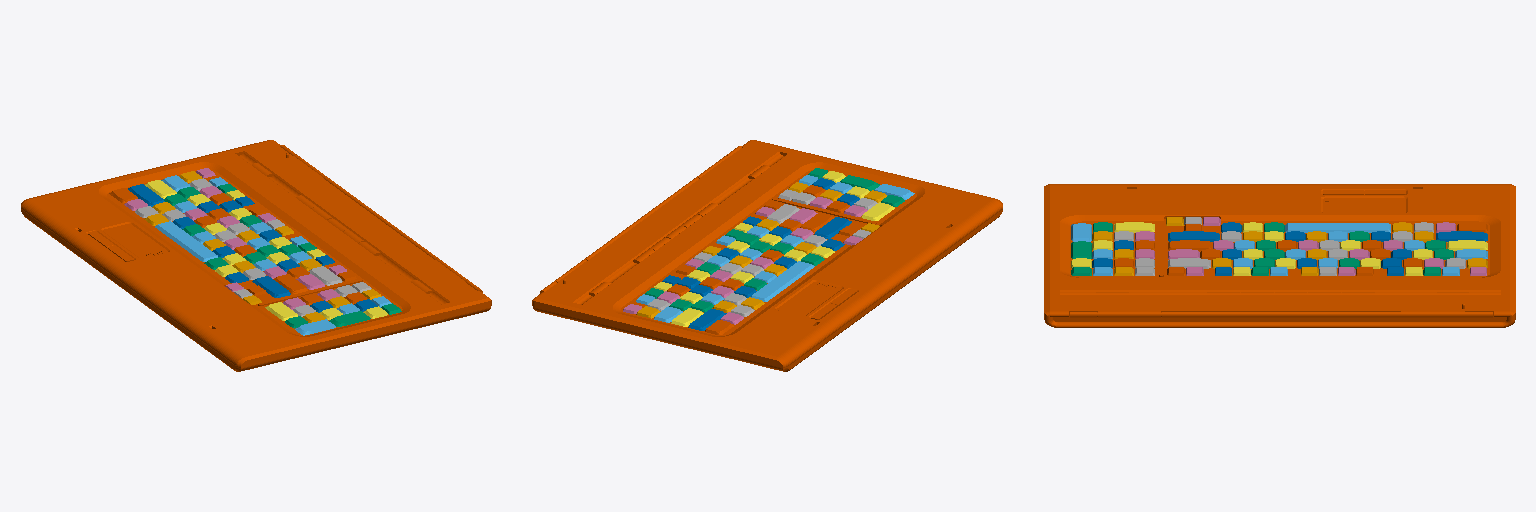
--- Facts derived from the render (not from the file) ---
Views: 3 orthographic renders of the robot side by side, from view 1: azimuth 30°, elevation 25°; view 2: azimuth 150°, elevation 25°; view 3: azimuth 270°, elevation 25°.
Model partnet_277e8f771b0aa88a6c71abf53b20bc9c with 103 links and 102 joints (101 prismatic, 1 fixed), rooted at base, posed all joints at 0.
Links seen in each view (by area): view 1: link_100, link_72; view 2: link_100, link_72; view 3: link_100, link_72.
Boxes of the visible links, x1,y1,x2,y2 form: link_100: (21, 140, 491, 371); link_72: (155, 221, 217, 261); link_100: (532, 140, 1002, 371); link_72: (751, 261, 814, 301); link_100: (1044, 184, 1515, 327); link_72: (1285, 223, 1390, 232).
Size in the robot's own frame: 1.15 by 1.71 by 0.0825 metres.
103 mesh visuals loaded from 103 distinct referenced files (103 OBJ).

The robot description file, URDF, robot "partnet_277e8f771b0aa88a6c71abf53b20bc9c":
<?xml version="1.0" ?>
<robot name="partnet_277e8f771b0aa88a6c71abf53b20bc9c">
	<link name="base"/>
	<link name="link_0">
		<visual name="key-2">
			<origin xyz="-0.33749394325258053 -0.02924199999999999 -0.03802506258246541"/>
			<geometry>
				<mesh filename="textured_objs/original-3.obj"/>
			</geometry>
		</visual>
		<collision>
			<origin xyz="-0.33749394325258053 -0.02924199999999999 -0.03802506258246541"/>
			<geometry>
				<mesh filename="textured_objs/original-3.obj"/>
			</geometry>
		</collision>
	</link>
	<joint name="joint_0" type="prismatic">
		<origin xyz="0.33749394325258053 0.02924199999999999 0.03802506258246541"/>
		<axis xyz="0 -1 0"/>
		<child link="link_0"/>
		<parent link="link_100"/>
		<limit lower="0" upper="0.005"/>
	</joint>
	<link name="link_1">
		<visual name="key-3">
			<origin xyz="-0.33749394325258053 -0.02924199999999999 -0.03802506258246541"/>
			<geometry>
				<mesh filename="textured_objs/original-6.obj"/>
			</geometry>
		</visual>
		<collision>
			<origin xyz="-0.33749394325258053 -0.02924199999999999 -0.03802506258246541"/>
			<geometry>
				<mesh filename="textured_objs/original-6.obj"/>
			</geometry>
		</collision>
	</link>
	<joint name="joint_1" type="prismatic">
		<origin xyz="0.33749394325258053 0.02924199999999999 0.03802506258246541"/>
		<axis xyz="0 -1 0"/>
		<child link="link_1"/>
		<parent link="link_100"/>
		<limit lower="0" upper="0.005"/>
	</joint>
	<link name="link_2">
		<visual name="key-4">
			<origin xyz="-0.33749394325258053 -0.02924199999999999 -0.03802506258246541"/>
			<geometry>
				<mesh filename="textured_objs/original-17.obj"/>
			</geometry>
		</visual>
		<collision>
			<origin xyz="-0.33749394325258053 -0.02924199999999999 -0.03802506258246541"/>
			<geometry>
				<mesh filename="textured_objs/original-17.obj"/>
			</geometry>
		</collision>
	</link>
	<joint name="joint_2" type="prismatic">
		<origin xyz="0.33749394325258053 0.02924199999999999 0.03802506258246541"/>
		<axis xyz="0 -1 0"/>
		<child link="link_2"/>
		<parent link="link_100"/>
		<limit lower="0" upper="0.005"/>
	</joint>
	<link name="link_3">
		<visual name="key-5">
			<origin xyz="-0.33749394325258053 -0.02924199999999999 -0.03802506258246541"/>
			<geometry>
				<mesh filename="textured_objs/original-20.obj"/>
			</geometry>
		</visual>
		<collision>
			<origin xyz="-0.33749394325258053 -0.02924199999999999 -0.03802506258246541"/>
			<geometry>
				<mesh filename="textured_objs/original-20.obj"/>
			</geometry>
		</collision>
	</link>
	<joint name="joint_3" type="prismatic">
		<origin xyz="0.33749394325258053 0.02924199999999999 0.03802506258246541"/>
		<axis xyz="0 -1 0"/>
		<child link="link_3"/>
		<parent link="link_100"/>
		<limit lower="0" upper="0.005"/>
	</joint>
	<link name="link_4">
		<visual name="key-6">
			<origin xyz="-0.33749394325258053 -0.02924199999999999 -0.03802506258246541"/>
			<geometry>
				<mesh filename="textured_objs/original-32.obj"/>
			</geometry>
		</visual>
		<collision>
			<origin xyz="-0.33749394325258053 -0.02924199999999999 -0.03802506258246541"/>
			<geometry>
				<mesh filename="textured_objs/original-32.obj"/>
			</geometry>
		</collision>
	</link>
	<joint name="joint_4" type="prismatic">
		<origin xyz="0.33749394325258053 0.02924199999999999 0.03802506258246541"/>
		<axis xyz="0 -1 0"/>
		<child link="link_4"/>
		<parent link="link_100"/>
		<limit lower="0" upper="0.005"/>
	</joint>
	<link name="link_5">
		<visual name="key-7">
			<origin xyz="-0.33749394325258053 -0.02924199999999999 -0.03802506258246541"/>
			<geometry>
				<mesh filename="textured_objs/original-46.obj"/>
			</geometry>
		</visual>
		<collision>
			<origin xyz="-0.33749394325258053 -0.02924199999999999 -0.03802506258246541"/>
			<geometry>
				<mesh filename="textured_objs/original-46.obj"/>
			</geometry>
		</collision>
	</link>
	<joint name="joint_5" type="prismatic">
		<origin xyz="0.33749394325258053 0.02924199999999999 0.03802506258246541"/>
		<axis xyz="0 -1 0"/>
		<child link="link_5"/>
		<parent link="link_100"/>
		<limit lower="0" upper="0.005"/>
	</joint>
	<link name="link_6">
		<visual name="key-8">
			<origin xyz="-0.33749394325258053 -0.02924199999999999 -0.03802506258246541"/>
			<geometry>
				<mesh filename="textured_objs/original-19.obj"/>
			</geometry>
		</visual>
		<collision>
			<origin xyz="-0.33749394325258053 -0.02924199999999999 -0.03802506258246541"/>
			<geometry>
				<mesh filename="textured_objs/original-19.obj"/>
			</geometry>
		</collision>
	</link>
	<joint name="joint_6" type="prismatic">
		<origin xyz="0.33749394325258053 0.02924199999999999 0.03802506258246541"/>
		<axis xyz="0 -1 0"/>
		<child link="link_6"/>
		<parent link="link_100"/>
		<limit lower="0" upper="0.005"/>
	</joint>
	<link name="link_7">
		<visual name="key-9">
			<origin xyz="-0.33749394325258053 -0.02924199999999999 -0.03802506258246541"/>
			<geometry>
				<mesh filename="textured_objs/original-7.obj"/>
			</geometry>
		</visual>
		<collision>
			<origin xyz="-0.33749394325258053 -0.02924199999999999 -0.03802506258246541"/>
			<geometry>
				<mesh filename="textured_objs/original-7.obj"/>
			</geometry>
		</collision>
	</link>
	<joint name="joint_7" type="prismatic">
		<origin xyz="0.33749394325258053 0.02924199999999999 0.03802506258246541"/>
		<axis xyz="0 -1 0"/>
		<child link="link_7"/>
		<parent link="link_100"/>
		<limit lower="0" upper="0.005"/>
	</joint>
	<link name="link_8">
		<visual name="key-10">
			<origin xyz="-0.33749394325258053 -0.02924199999999999 -0.03802506258246541"/>
			<geometry>
				<mesh filename="textured_objs/original-58.obj"/>
			</geometry>
		</visual>
		<collision>
			<origin xyz="-0.33749394325258053 -0.02924199999999999 -0.03802506258246541"/>
			<geometry>
				<mesh filename="textured_objs/original-58.obj"/>
			</geometry>
		</collision>
	</link>
	<joint name="joint_8" type="prismatic">
		<origin xyz="0.33749394325258053 0.02924199999999999 0.03802506258246541"/>
		<axis xyz="0 -1 0"/>
		<child link="link_8"/>
		<parent link="link_100"/>
		<limit lower="0" upper="0.005"/>
	</joint>
	<link name="link_9">
		<visual name="key-11">
			<origin xyz="-0.33749394325258053 -0.02924199999999999 -0.03802506258246541"/>
			<geometry>
				<mesh filename="textured_objs/original-41.obj"/>
			</geometry>
		</visual>
		<collision>
			<origin xyz="-0.33749394325258053 -0.02924199999999999 -0.03802506258246541"/>
			<geometry>
				<mesh filename="textured_objs/original-41.obj"/>
			</geometry>
		</collision>
	</link>
	<joint name="joint_9" type="prismatic">
		<origin xyz="0.33749394325258053 0.02924199999999999 0.03802506258246541"/>
		<axis xyz="0 -1 0"/>
		<child link="link_9"/>
		<parent link="link_100"/>
		<limit lower="0" upper="0.005"/>
	</joint>
	<link name="link_10">
		<visual name="key-12">
			<origin xyz="-0.33749394325258053 -0.02924199999999999 -0.03802506258246541"/>
			<geometry>
				<mesh filename="textured_objs/original-24.obj"/>
			</geometry>
		</visual>
		<collision>
			<origin xyz="-0.33749394325258053 -0.02924199999999999 -0.03802506258246541"/>
			<geometry>
				<mesh filename="textured_objs/original-24.obj"/>
			</geometry>
		</collision>
	</link>
	<joint name="joint_10" type="prismatic">
		<origin xyz="0.33749394325258053 0.02924199999999999 0.03802506258246541"/>
		<axis xyz="0 -1 0"/>
		<child link="link_10"/>
		<parent link="link_100"/>
		<limit lower="0" upper="0.005"/>
	</joint>
	<link name="link_11">
		<visual name="key-13">
			<origin xyz="-0.33749394325258053 -0.02924199999999999 -0.03802506258246541"/>
			<geometry>
				<mesh filename="textured_objs/original-23.obj"/>
			</geometry>
		</visual>
		<collision>
			<origin xyz="-0.33749394325258053 -0.02924199999999999 -0.03802506258246541"/>
			<geometry>
				<mesh filename="textured_objs/original-23.obj"/>
			</geometry>
		</collision>
	</link>
	<joint name="joint_11" type="prismatic">
		<origin xyz="0.33749394325258053 0.02924199999999999 0.03802506258246541"/>
		<axis xyz="0 -1 0"/>
		<child link="link_11"/>
		<parent link="link_100"/>
		<limit lower="0" upper="0.005"/>
	</joint>
	<link name="link_12">
		<visual name="key-14">
			<origin xyz="-0.33749394325258053 -0.02924199999999999 -0.03802506258246541"/>
			<geometry>
				<mesh filename="textured_objs/original-49.obj"/>
			</geometry>
		</visual>
		<collision>
			<origin xyz="-0.33749394325258053 -0.02924199999999999 -0.03802506258246541"/>
			<geometry>
				<mesh filename="textured_objs/original-49.obj"/>
			</geometry>
		</collision>
	</link>
	<joint name="joint_12" type="prismatic">
		<origin xyz="0.33749394325258053 0.02924199999999999 0.03802506258246541"/>
		<axis xyz="0 -1 0"/>
		<child link="link_12"/>
		<parent link="link_100"/>
		<limit lower="0" upper="0.005"/>
	</joint>
	<link name="link_13">
		<visual name="key-15">
			<origin xyz="-0.33749394325258053 -0.02924199999999999 -0.03802506258246541"/>
			<geometry>
				<mesh filename="textured_objs/original-15.obj"/>
			</geometry>
		</visual>
		<collision>
			<origin xyz="-0.33749394325258053 -0.02924199999999999 -0.03802506258246541"/>
			<geometry>
				<mesh filename="textured_objs/original-15.obj"/>
			</geometry>
		</collision>
	</link>
	<joint name="joint_13" type="prismatic">
		<origin xyz="0.33749394325258053 0.02924199999999999 0.03802506258246541"/>
		<axis xyz="0 -1 0"/>
		<child link="link_13"/>
		<parent link="link_100"/>
		<limit lower="0" upper="0.005"/>
	</joint>
	<link name="link_14">
		<visual name="key-16">
			<origin xyz="-0.33749394325258053 -0.02924199999999999 -0.03802506258246541"/>
			<geometry>
				<mesh filename="textured_objs/original-30.obj"/>
			</geometry>
		</visual>
		<collision>
			<origin xyz="-0.33749394325258053 -0.02924199999999999 -0.03802506258246541"/>
			<geometry>
				<mesh filename="textured_objs/original-30.obj"/>
			</geometry>
		</collision>
	</link>
	<joint name="joint_14" type="prismatic">
		<origin xyz="0.33749394325258053 0.02924199999999999 0.03802506258246541"/>
		<axis xyz="0 -1 0"/>
		<child link="link_14"/>
		<parent link="link_100"/>
		<limit lower="0" upper="0.005"/>
	</joint>
	<link name="link_15">
		<visual name="key-17">
			<origin xyz="-0.33749394325258053 -0.02924199999999999 -0.03802506258246541"/>
			<geometry>
				<mesh filename="textured_objs/original-9.obj"/>
			</geometry>
		</visual>
		<collision>
			<origin xyz="-0.33749394325258053 -0.02924199999999999 -0.03802506258246541"/>
			<geometry>
				<mesh filename="textured_objs/original-9.obj"/>
			</geometry>
		</collision>
	</link>
	<joint name="joint_15" type="prismatic">
		<origin xyz="0.33749394325258053 0.02924199999999999 0.03802506258246541"/>
		<axis xyz="0 -1 0"/>
		<child link="link_15"/>
		<parent link="link_100"/>
		<limit lower="0" upper="0.005"/>
	</joint>
	<link name="link_16">
		<visual name="key-18">
			<origin xyz="-0.33749394325258053 -0.02924199999999999 -0.03802506258246541"/>
			<geometry>
				<mesh filename="textured_objs/original-21.obj"/>
			</geometry>
		</visual>
		<collision>
			<origin xyz="-0.33749394325258053 -0.02924199999999999 -0.03802506258246541"/>
			<geometry>
				<mesh filename="textured_objs/original-21.obj"/>
			</geometry>
		</collision>
	</link>
	<joint name="joint_16" type="prismatic">
		<origin xyz="0.33749394325258053 0.02924199999999999 0.03802506258246541"/>
		<axis xyz="0 -1 0"/>
		<child link="link_16"/>
		<parent link="link_100"/>
		<limit lower="0" upper="0.005"/>
	</joint>
	<link name="link_17">
		<visual name="key-19">
			<origin xyz="-0.33749394325258053 -0.02924199999999999 -0.03802506258246541"/>
			<geometry>
				<mesh filename="textured_objs/original-5.obj"/>
			</geometry>
		</visual>
		<collision>
			<origin xyz="-0.33749394325258053 -0.02924199999999999 -0.03802506258246541"/>
			<geometry>
				<mesh filename="textured_objs/original-5.obj"/>
			</geometry>
		</collision>
	</link>
	<joint name="joint_17" type="prismatic">
		<origin xyz="0.33749394325258053 0.02924199999999999 0.03802506258246541"/>
		<axis xyz="0 -1 0"/>
		<child link="link_17"/>
		<parent link="link_100"/>
		<limit lower="0" upper="0.005"/>
	</joint>
	<link name="link_18">
		<visual name="key-20">
			<origin xyz="-0.33749394325258053 -0.02924199999999999 -0.03802506258246541"/>
			<geometry>
				<mesh filename="textured_objs/original-50.obj"/>
			</geometry>
		</visual>
		<collision>
			<origin xyz="-0.33749394325258053 -0.02924199999999999 -0.03802506258246541"/>
			<geometry>
				<mesh filename="textured_objs/original-50.obj"/>
			</geometry>
		</collision>
	</link>
	<joint name="joint_18" type="prismatic">
		<origin xyz="0.33749394325258053 0.02924199999999999 0.03802506258246541"/>
		<axis xyz="0 -1 0"/>
		<child link="link_18"/>
		<parent link="link_100"/>
		<limit lower="0" upper="0.005"/>
	</joint>
	<link name="link_19">
		<visual name="key-21">
			<origin xyz="-0.33749394325258053 -0.02924199999999999 -0.03802506258246541"/>
			<geometry>
				<mesh filename="textured_objs/original-13.obj"/>
			</geometry>
		</visual>
		<collision>
			<origin xyz="-0.33749394325258053 -0.02924199999999999 -0.03802506258246541"/>
			<geometry>
				<mesh filename="textured_objs/original-13.obj"/>
			</geometry>
		</collision>
	</link>
	<joint name="joint_19" type="prismatic">
		<origin xyz="0.33749394325258053 0.02924199999999999 0.03802506258246541"/>
		<axis xyz="0 -1 0"/>
		<child link="link_19"/>
		<parent link="link_100"/>
		<limit lower="0" upper="0.005"/>
	</joint>
	<link name="link_20">
		<visual name="key-22">
			<origin xyz="-0.33749394325258053 -0.02924199999999999 -0.03802506258246541"/>
			<geometry>
				<mesh filename="textured_objs/original-43.obj"/>
			</geometry>
		</visual>
		<collision>
			<origin xyz="-0.33749394325258053 -0.02924199999999999 -0.03802506258246541"/>
			<geometry>
				<mesh filename="textured_objs/original-43.obj"/>
			</geometry>
		</collision>
	</link>
	<joint name="joint_20" type="prismatic">
		<origin xyz="0.33749394325258053 0.02924199999999999 0.03802506258246541"/>
		<axis xyz="0 -1 0"/>
		<child link="link_20"/>
		<parent link="link_100"/>
		<limit lower="0" upper="0.005"/>
	</joint>
	<link name="link_21">
		<visual name="key-23">
			<origin xyz="-0.33749394325258053 -0.02924199999999999 -0.03802506258246541"/>
			<geometry>
				<mesh filename="textured_objs/original-8.obj"/>
			</geometry>
		</visual>
		<collision>
			<origin xyz="-0.33749394325258053 -0.02924199999999999 -0.03802506258246541"/>
			<geometry>
				<mesh filename="textured_objs/original-8.obj"/>
			</geometry>
		</collision>
	</link>
	<joint name="joint_21" type="prismatic">
		<origin xyz="0.33749394325258053 0.02924199999999999 0.03802506258246541"/>
		<axis xyz="0 -1 0"/>
		<child link="link_21"/>
		<parent link="link_100"/>
		<limit lower="0" upper="0.005"/>
	</joint>
	<link name="link_22">
		<visual name="key-24">
			<origin xyz="-0.33749394325258053 -0.02924199999999999 -0.03802506258246541"/>
			<geometry>
				<mesh filename="textured_objs/original-95.obj"/>
			</geometry>
		</visual>
		<collision>
			<origin xyz="-0.33749394325258053 -0.02924199999999999 -0.03802506258246541"/>
			<geometry>
				<mesh filename="textured_objs/original-95.obj"/>
			</geometry>
		</collision>
	</link>
	<joint name="joint_22" type="prismatic">
		<origin xyz="0.33749394325258053 0.02924199999999999 0.03802506258246541"/>
		<axis xyz="0 -1 0"/>
		<child link="link_22"/>
		<parent link="link_100"/>
		<limit lower="0" upper="0.005"/>
	</joint>
	<link name="link_23">
		<visual name="key-25">
			<origin xyz="-0.33749394325258053 -0.02924199999999999 -0.03802506258246541"/>
			<geometry>
				<mesh filename="textured_objs/original-96.obj"/>
			</geometry>
		</visual>
		<collision>
			<origin xyz="-0.33749394325258053 -0.02924199999999999 -0.03802506258246541"/>
			<geometry>
				<mesh filename="textured_objs/original-96.obj"/>
			</geometry>
		</collision>
	</link>
	<joint name="joint_23" type="prismatic">
		<origin xyz="0.33749394325258053 0.02924199999999999 0.03802506258246541"/>
		<axis xyz="0 -1 0"/>
		<child link="link_23"/>
		<parent link="link_100"/>
		<limit lower="0" upper="0.005"/>
	</joint>
	<link name="link_24">
		<visual name="key-26">
			<origin xyz="-0.33749394325258053 -0.02924199999999999 -0.03802506258246541"/>
			<geometry>
				<mesh filename="textured_objs/original-97.obj"/>
			</geometry>
		</visual>
		<collision>
			<origin xyz="-0.33749394325258053 -0.02924199999999999 -0.03802506258246541"/>
			<geometry>
				<mesh filename="textured_objs/original-97.obj"/>
			</geometry>
		</collision>
	</link>
	<joint name="joint_24" type="prismatic">
		<origin xyz="0.33749394325258053 0.02924199999999999 0.03802506258246541"/>
		<axis xyz="0 -1 0"/>
		<child link="link_24"/>
		<parent link="link_100"/>
		<limit lower="0" upper="0.005"/>
	</joint>
	<link name="link_25">
		<visual name="key-27">
			<origin xyz="-0.33749394325258053 -0.02924199999999999 -0.03802506258246541"/>
			<geometry>
				<mesh filename="textured_objs/original-98.obj"/>
			</geometry>
		</visual>
		<collision>
			<origin xyz="-0.33749394325258053 -0.02924199999999999 -0.03802506258246541"/>
			<geometry>
				<mesh filename="textured_objs/original-98.obj"/>
			</geometry>
		</collision>
	</link>
	<joint name="joint_25" type="prismatic">
		<origin xyz="0.33749394325258053 0.02924199999999999 0.03802506258246541"/>
		<axis xyz="0 -1 0"/>
		<child link="link_25"/>
		<parent link="link_100"/>
		<limit lower="0" upper="0.005"/>
	</joint>
	<link name="link_26">
		<visual name="key-28">
			<origin xyz="-0.33749394325258053 -0.02924199999999999 -0.03802506258246541"/>
			<geometry>
				<mesh filename="textured_objs/original-66.obj"/>
			</geometry>
		</visual>
		<collision>
			<origin xyz="-0.33749394325258053 -0.02924199999999999 -0.03802506258246541"/>
			<geometry>
				<mesh filename="textured_objs/original-66.obj"/>
			</geometry>
		</collision>
	</link>
	<joint name="joint_26" type="prismatic">
		<origin xyz="0.33749394325258053 0.02924199999999999 0.03802506258246541"/>
		<axis xyz="0 -1 0"/>
		<child link="link_26"/>
		<parent link="link_100"/>
		<limit lower="0" upper="0.005"/>
	</joint>
	<link name="link_27">
		<visual name="key-29">
			<origin xyz="-0.33749394325258053 -0.02924199999999999 -0.03802506258246541"/>
			<geometry>
				<mesh filename="textured_objs/original-65.obj"/>
			</geometry>
		</visual>
		<collision>
			<origin xyz="-0.33749394325258053 -0.02924199999999999 -0.03802506258246541"/>
			<geometry>
				<mesh filename="textured_objs/original-65.obj"/>
			</geometry>
		</collision>
	</link>
	<joint name="joint_27" type="prismatic">
		<origin xyz="0.33749394325258053 0.02924199999999999 0.03802506258246541"/>
		<axis xyz="0 -1 0"/>
		<child link="link_27"/>
		<parent link="link_100"/>
		<limit lower="0" upper="0.005"/>
	</joint>
	<link name="link_28">
		<visual name="key-30">
			<origin xyz="-0.33749394325258053 -0.02924199999999999 -0.03802506258246541"/>
			<geometry>
				<mesh filename="textured_objs/original-64.obj"/>
			</geometry>
		</visual>
		<collision>
			<origin xyz="-0.33749394325258053 -0.02924199999999999 -0.03802506258246541"/>
			<geometry>
				<mesh filename="textured_objs/original-64.obj"/>
			</geometry>
		</collision>
	</link>
	<joint name="joint_28" type="prismatic">
		<origin xyz="0.33749394325258053 0.02924199999999999 0.03802506258246541"/>
		<axis xyz="0 -1 0"/>
		<child link="link_28"/>
		<parent link="link_100"/>
		<limit lower="0" upper="0.005"/>
	</joint>
	<link name="link_29">
		<visual name="key-31">
			<origin xyz="-0.33749394325258053 -0.02924199999999999 -0.03802506258246541"/>
			<geometry>
				<mesh filename="textured_objs/original-67.obj"/>
			</geometry>
		</visual>
		<collision>
			<origin xyz="-0.33749394325258053 -0.02924199999999999 -0.03802506258246541"/>
			<geometry>
				<mesh filename="textured_objs/original-67.obj"/>
			</geometry>
		</collision>
	</link>
	<joint name="joint_29" type="prismatic">
		<origin xyz="0.33749394325258053 0.02924199999999999 0.03802506258246541"/>
		<axis xyz="0 -1 0"/>
		<child link="link_29"/>
		<parent link="link_100"/>
		<limit lower="0" upper="0.005"/>
	</joint>
	<link name="link_30">
		<visual name="key-32">
			<origin xyz="-0.33749394325258053 -0.02924199999999999 -0.03802506258246541"/>
			<geometry>
				<mesh filename="textured_objs/original-63.obj"/>
			</geometry>
		</visual>
		<collision>
			<origin xyz="-0.33749394325258053 -0.02924199999999999 -0.03802506258246541"/>
			<geometry>
				<mesh filename="textured_objs/original-63.obj"/>
			</geometry>
		</collision>
	</link>
	<joint name="joint_30" type="prismatic">
		<origin xyz="0.33749394325258053 0.02924199999999999 0.03802506258246541"/>
		<axis xyz="0 -1 0"/>
		<child link="link_30"/>
		<parent link="link_100"/>
		<limit lower="0" upper="0.005"/>
	</joint>
	<link name="link_31">
		<visual name="key-33">
			<origin xyz="-0.33749394325258053 -0.02924199999999999 -0.03802506258246541"/>
			<geometry>
				<mesh filename="textured_objs/original-68.obj"/>
			</geometry>
		</visual>
		<collision>
			<origin xyz="-0.33749394325258053 -0.02924199999999999 -0.03802506258246541"/>
			<geometry>
				<mesh filename="textured_objs/original-68.obj"/>
			</geometry>
		</collision>
	</link>
	<joint name="joint_31" type="prismatic">
		<origin xyz="0.33749394325258053 0.02924199999999999 0.03802506258246541"/>
		<axis xyz="0 -1 0"/>
		<child link="link_31"/>
		<parent link="link_100"/>
		<limit lower="0" upper="0.005"/>
	</joint>
	<link name="link_32">
		<visual name="key-34">
			<origin xyz="-0.33749394325258053 -0.02924199999999999 -0.03802506258246541"/>
			<geometry>
				<mesh filename="textured_objs/original-69.obj"/>
			</geometry>
		</visual>
		<collision>
			<origin xyz="-0.33749394325258053 -0.02924199999999999 -0.03802506258246541"/>
			<geometry>
				<mesh filename="textured_objs/original-69.obj"/>
			</geometry>
		</collision>
	</link>
	<joint name="joint_32" type="prismatic">
		<origin xyz="0.33749394325258053 0.02924199999999999 0.03802506258246541"/>
		<axis xyz="0 -1 0"/>
		<child link="link_32"/>
		<parent link="link_100"/>
		<limit lower="0" upper="0.005"/>
	</joint>
	<link name="link_33">
		<visual name="key-35">
			<origin xyz="-0.33749394325258053 -0.02924199999999999 -0.03802506258246541"/>
			<geometry>
				<mesh filename="textured_objs/original-79.obj"/>
			</geometry>
		</visual>
		<collision>
			<origin xyz="-0.33749394325258053 -0.02924199999999999 -0.03802506258246541"/>
			<geometry>
				<mesh filename="textured_objs/original-79.obj"/>
			</geometry>
		</collision>
	</link>
	<joint name="joint_33" type="prismatic">
		<origin xyz="0.33749394325258053 0.02924199999999999 0.03802506258246541"/>
		<axis xyz="0 -1 0"/>
		<child link="link_33"/>
		<parent link="link_100"/>
		<limit lower="0" upper="0.005"/>
	</joint>
	<link name="link_34">
		<visual name="key-36">
			<origin xyz="-0.33749394325258053 -0.02924199999999999 -0.03802506258246541"/>
			<geometry>
				<mesh filename="textured_objs/original-71.obj"/>
			</geometry>
		</visual>
		<collision>
			<origin xyz="-0.33749394325258053 -0.02924199999999999 -0.03802506258246541"/>
			<geometry>
				<mesh filename="textured_objs/original-71.obj"/>
			</geometry>
		</collision>
	</link>
	<joint name="joint_34" type="prismatic">
		<origin xyz="0.33749394325258053 0.02924199999999999 0.03802506258246541"/>
		<axis xyz="0 -1 0"/>
		<child link="link_34"/>
		<parent link="link_100"/>
		<limit lower="0" upper="0.005"/>
	</joint>
	<link name="link_35">
		<visual name="key-37">
			<origin xyz="-0.33749394325258053 -0.02924199999999999 -0.03802506258246541"/>
			<geometry>
				<mesh filename="textured_objs/original-70.obj"/>
			</geometry>
		</visual>
		<collision>
			<origin xyz="-0.33749394325258053 -0.02924199999999999 -0.03802506258246541"/>
			<geometry>
				<mesh filename="textured_objs/original-70.obj"/>
			</geometry>
		</collision>
	</link>
	<joint name="joint_35" type="prismatic">
		<origin xyz="0.33749394325258053 0.02924199999999999 0.03802506258246541"/>
		<axis xyz="0 -1 0"/>
		<child link="link_35"/>
		<parent link="link_100"/>
		<limit lower="0" upper="0.005"/>
	</joint>
	<link name="link_36">
		<visual name="key-38">
			<origin xyz="-0.33749394325258053 -0.02924199999999999 -0.03802506258246541"/>
			<geometry>
				<mesh filename="textured_objs/original-72.obj"/>
			</geometry>
		</visual>
		<collision>
			<origin xyz="-0.33749394325258053 -0.02924199999999999 -0.03802506258246541"/>
			<geometry>
				<mesh filename="textured_objs/original-72.obj"/>
			</geometry>
		</collision>
	</link>
	<joint name="joint_36" type="prismatic">
		<origin xyz="0.33749394325258053 0.02924199999999999 0.03802506258246541"/>
		<axis xyz="0 -1 0"/>
		<child link="link_36"/>
		<parent link="link_100"/>
		<limit lower="0" upper="0.005"/>
	</joint>
	<link name="link_37">
		<visual name="key-39">
			<origin xyz="-0.33749394325258053 -0.02924199999999999 -0.03802506258246541"/>
			<geometry>
				<mesh filename="textured_objs/original-75.obj"/>
			</geometry>
		</visual>
		<collision>
			<origin xyz="-0.33749394325258053 -0.02924199999999999 -0.03802506258246541"/>
			<geometry>
				<mesh filename="textured_objs/original-75.obj"/>
			</geometry>
		</collision>
	</link>
	<joint name="joint_37" type="prismatic">
		<origin xyz="0.33749394325258053 0.02924199999999999 0.03802506258246541"/>
		<axis xyz="0 -1 0"/>
		<child link="link_37"/>
		<parent link="link_100"/>
		<limit lower="0" upper="0.005"/>
	</joint>
	<link name="link_38">
		<visual name="key-40">
			<origin xyz="-0.33749394325258053 -0.02924199999999999 -0.03802506258246541"/>
			<geometry>
				<mesh filename="textured_objs/original-73.obj"/>
			</geometry>
		</visual>
		<collision>
			<origin xyz="-0.33749394325258053 -0.02924199999999999 -0.03802506258246541"/>
			<geometry>
				<mesh filename="textured_objs/original-73.obj"/>
			</geometry>
		</collision>
	</link>
	<joint name="joint_38" type="prismatic">
		<origin xyz="0.33749394325258053 0.02924199999999999 0.03802506258246541"/>
		<axis xyz="0 -1 0"/>
		<child link="link_38"/>
		<parent link="link_100"/>
		<limit lower="0" upper="0.005"/>
	</joint>
	<link name="link_39">
		<visual name="key-41">
			<origin xyz="-0.33749394325258053 -0.02924199999999999 -0.03802506258246541"/>
			<geometry>
				<mesh filename="textured_objs/original-74.obj"/>
			</geometry>
		</visual>
		<collision>
			<origin xyz="-0.33749394325258053 -0.02924199999999999 -0.03802506258246541"/>
			<geometry>
				<mesh filename="textured_objs/original-74.obj"/>
			</geometry>
		</collision>
	</link>
	<joint name="joint_39" type="prismatic">
		<origin xyz="0.33749394325258053 0.02924199999999999 0.03802506258246541"/>
		<axis xyz="0 -1 0"/>
		<child link="link_39"/>
		<parent link="link_100"/>
		<limit lower="0" upper="0.005"/>
	</joint>
	<link name="link_40">
		<visual name="key-42">
			<origin xyz="-0.33749394325258053 -0.02924199999999999 -0.03802506258246541"/>
			<geometry>
				<mesh filename="textured_objs/original-78.obj"/>
			</geometry>
		</visual>
		<collision>
			<origin xyz="-0.33749394325258053 -0.02924199999999999 -0.03802506258246541"/>
			<geometry>
				<mesh filename="textured_objs/original-78.obj"/>
			</geometry>
		</collision>
	</link>
	<joint name="joint_40" type="prismatic">
		<origin xyz="0.33749394325258053 0.02924199999999999 0.03802506258246541"/>
		<axis xyz="0 -1 0"/>
		<child link="link_40"/>
		<parent link="link_100"/>
		<limit lower="0" upper="0.005"/>
	</joint>
	<link name="link_41">
		<visual name="key-43">
			<origin xyz="-0.33749394325258053 -0.02924199999999999 -0.03802506258246541"/>
			<geometry>
				<mesh filename="textured_objs/original-76.obj"/>
			</geometry>
		</visual>
		<collision>
			<origin xyz="-0.33749394325258053 -0.02924199999999999 -0.03802506258246541"/>
			<geometry>
				<mesh filename="textured_objs/original-76.obj"/>
			</geometry>
		</collision>
	</link>
	<joint name="joint_41" type="prismatic">
		<origin xyz="0.33749394325258053 0.02924199999999999 0.03802506258246541"/>
		<axis xyz="0 -1 0"/>
		<child link="link_41"/>
		<parent link="link_100"/>
		<limit lower="0" upper="0.005"/>
	</joint>
	<link name="link_42">
		<visual name="key-44">
			<origin xyz="-0.33749394325258053 -0.02924199999999999 -0.03802506258246541"/>
			<geometry>
				<mesh filename="textured_objs/original-77.obj"/>
			</geometry>
		</visual>
		<collision>
			<origin xyz="-0.33749394325258053 -0.02924199999999999 -0.03802506258246541"/>
			<geometry>
				<mesh filename="textured_objs/original-77.obj"/>
			</geometry>
		</collision>
	</link>
	<joint name="joint_42" type="prismatic">
		<origin xyz="0.33749394325258053 0.02924199999999999 0.03802506258246541"/>
		<axis xyz="0 -1 0"/>
		<child link="link_42"/>
		<parent link="link_100"/>
		<limit lower="0" upper="0.005"/>
	</joint>
	<link name="link_43">
		<visual name="key-45">
			<origin xyz="-0.33749394325258053 -0.02924199999999999 -0.03802506258246541"/>
			<geometry>
				<mesh filename="textured_objs/original-39.obj"/>
			</geometry>
		</visual>
		<collision>
			<origin xyz="-0.33749394325258053 -0.02924199999999999 -0.03802506258246541"/>
			<geometry>
				<mesh filename="textured_objs/original-39.obj"/>
			</geometry>
		</collision>
	</link>
	<joint name="joint_43" type="prismatic">
		<origin xyz="0.33749394325258053 0.02924199999999999 0.03802506258246541"/>
		<axis xyz="0 -1 0"/>
		<child link="link_43"/>
		<parent link="link_100"/>
		<limit lower="0" upper="0.005"/>
	</joint>
	<link name="link_44">
		<visual name="key-46">
			<origin xyz="-0.33749394325258053 -0.02924199999999999 -0.03802506258246541"/>
			<geometry>
				<mesh filename="textured_objs/original-54.obj"/>
			</geometry>
		</visual>
		<collision>
			<origin xyz="-0.33749394325258053 -0.02924199999999999 -0.03802506258246541"/>
			<geometry>
				<mesh filename="textured_objs/original-54.obj"/>
			</geometry>
		</collision>
	</link>
	<joint name="joint_44" type="prismatic">
		<origin xyz="0.33749394325258053 0.02924199999999999 0.03802506258246541"/>
		<axis xyz="0 -1 0"/>
		<child link="link_44"/>
		<parent link="link_100"/>
		<limit lower="0" upper="0.005"/>
	</joint>
	<link name="link_45">
		<visual name="key-47">
			<origin xyz="-0.33749394325258053 -0.02924199999999999 -0.03802506258246541"/>
			<geometry>
				<mesh filename="textured_objs/original-48.obj"/>
			</geometry>
		</visual>
		<collision>
			<origin xyz="-0.33749394325258053 -0.02924199999999999 -0.03802506258246541"/>
			<geometry>
				<mesh filename="textured_objs/original-48.obj"/>
			</geometry>
		</collision>
	</link>
	<joint name="joint_45" type="prismatic">
		<origin xyz="0.33749394325258053 0.02924199999999999 0.03802506258246541"/>
		<axis xyz="0 -1 0"/>
		<child link="link_45"/>
		<parent link="link_100"/>
		<limit lower="0" upper="0.005"/>
	</joint>
	<link name="link_46">
		<visual name="key-48">
			<origin xyz="-0.33749394325258053 -0.02924199999999999 -0.03802506258246541"/>
			<geometry>
				<mesh filename="textured_objs/original-53.obj"/>
			</geometry>
		</visual>
		<collision>
			<origin xyz="-0.33749394325258053 -0.02924199999999999 -0.03802506258246541"/>
			<geometry>
				<mesh filename="textured_objs/original-53.obj"/>
			</geometry>
		</collision>
	</link>
	<joint name="joint_46" type="prismatic">
		<origin xyz="0.33749394325258053 0.02924199999999999 0.03802506258246541"/>
		<axis xyz="0 -1 0"/>
		<child link="link_46"/>
		<parent link="link_100"/>
		<limit lower="0" upper="0.005"/>
	</joint>
	<link name="link_47">
		<visual name="key-49">
			<origin xyz="-0.33749394325258053 -0.02924199999999999 -0.03802506258246541"/>
			<geometry>
				<mesh filename="textured_objs/original-56.obj"/>
			</geometry>
		</visual>
		<collision>
			<origin xyz="-0.33749394325258053 -0.02924199999999999 -0.03802506258246541"/>
			<geometry>
				<mesh filename="textured_objs/original-56.obj"/>
			</geometry>
		</collision>
	</link>
	<joint name="joint_47" type="prismatic">
		<origin xyz="0.33749394325258053 0.02924199999999999 0.03802506258246541"/>
		<axis xyz="0 -1 0"/>
		<child link="link_47"/>
		<parent link="link_100"/>
		<limit lower="0" upper="0.005"/>
	</joint>
	<link name="link_48">
		<visual name="key-50">
			<origin xyz="-0.33749394325258053 -0.02924199999999999 -0.03802506258246541"/>
			<geometry>
				<mesh filename="textured_objs/original-52.obj"/>
			</geometry>
		</visual>
		<collision>
			<origin xyz="-0.33749394325258053 -0.02924199999999999 -0.03802506258246541"/>
			<geometry>
				<mesh filename="textured_objs/original-52.obj"/>
			</geometry>
		</collision>
	</link>
	<joint name="joint_48" type="prismatic">
		<origin xyz="0.33749394325258053 0.02924199999999999 0.03802506258246541"/>
		<axis xyz="0 -1 0"/>
		<child link="link_48"/>
		<parent link="link_100"/>
		<limit lower="0" upper="0.005"/>
	</joint>
	<link name="link_49">
		<visual name="key-51">
			<origin xyz="-0.33749394325258053 -0.02924199999999999 -0.03802506258246541"/>
			<geometry>
				<mesh filename="textured_objs/original-10.obj"/>
			</geometry>
		</visual>
		<collision>
			<origin xyz="-0.33749394325258053 -0.02924199999999999 -0.03802506258246541"/>
			<geometry>
				<mesh filename="textured_objs/original-10.obj"/>
			</geometry>
		</collision>
	</link>
	<joint name="joint_49" type="prismatic">
		<origin xyz="0.33749394325258053 0.02924199999999999 0.03802506258246541"/>
		<axis xyz="0 -1 0"/>
		<child link="link_49"/>
		<parent link="link_100"/>
		<limit lower="0" upper="0.005"/>
	</joint>
	<link name="link_50">
		<visual name="key-52">
			<origin xyz="-0.33749394325258053 -0.02924199999999999 -0.03802506258246541"/>
			<geometry>
				<mesh filename="textured_objs/original-61.obj"/>
			</geometry>
		</visual>
		<collision>
			<origin xyz="-0.33749394325258053 -0.02924199999999999 -0.03802506258246541"/>
			<geometry>
				<mesh filename="textured_objs/original-61.obj"/>
			</geometry>
		</collision>
	</link>
	<joint name="joint_50" type="prismatic">
		<origin xyz="0.33749394325258053 0.02924199999999999 0.03802506258246541"/>
		<axis xyz="0 -1 0"/>
		<child link="link_50"/>
		<parent link="link_100"/>
		<limit lower="0" upper="0.005"/>
	</joint>
	<link name="link_51">
		<visual name="key-53">
			<origin xyz="-0.33749394325258053 -0.02924199999999999 -0.03802506258246541"/>
			<geometry>
				<mesh filename="textured_objs/original-16.obj"/>
			</geometry>
		</visual>
		<collision>
			<origin xyz="-0.33749394325258053 -0.02924199999999999 -0.03802506258246541"/>
			<geometry>
				<mesh filename="textured_objs/original-16.obj"/>
			</geometry>
		</collision>
	</link>
	<joint name="joint_51" type="prismatic">
		<origin xyz="0.33749394325258053 0.02924199999999999 0.03802506258246541"/>
		<axis xyz="0 -1 0"/>
		<child link="link_51"/>
		<parent link="link_100"/>
		<limit lower="0" upper="0.005"/>
	</joint>
	<link name="link_52">
		<visual name="key-54">
			<origin xyz="-0.33749394325258053 -0.02924199999999999 -0.03802506258246541"/>
			<geometry>
				<mesh filename="textured_objs/original-37.obj"/>
			</geometry>
		</visual>
		<collision>
			<origin xyz="-0.33749394325258053 -0.02924199999999999 -0.03802506258246541"/>
			<geometry>
				<mesh filename="textured_objs/original-37.obj"/>
			</geometry>
		</collision>
	</link>
	<joint name="joint_52" type="prismatic">
		<origin xyz="0.33749394325258053 0.02924199999999999 0.03802506258246541"/>
		<axis xyz="0 -1 0"/>
		<child link="link_52"/>
		<parent link="link_100"/>
		<limit lower="0" upper="0.005"/>
	</joint>
	<link name="link_53">
		<visual name="key-55">
			<origin xyz="-0.33749394325258053 -0.02924199999999999 -0.03802506258246541"/>
			<geometry>
				<mesh filename="textured_objs/original-27.obj"/>
			</geometry>
		</visual>
		<collision>
			<origin xyz="-0.33749394325258053 -0.02924199999999999 -0.03802506258246541"/>
			<geometry>
				<mesh filename="textured_objs/original-27.obj"/>
			</geometry>
		</collision>
	</link>
	<joint name="joint_53" type="prismatic">
		<origin xyz="0.33749394325258053 0.02924199999999999 0.03802506258246541"/>
		<axis xyz="0 -1 0"/>
		<child link="link_53"/>
		<parent link="link_100"/>
		<limit lower="0" upper="0.005"/>
	</joint>
	<link name="link_54">
		<visual name="key-56">
			<origin xyz="-0.33749394325258053 -0.02924199999999999 -0.03802506258246541"/>
			<geometry>
				<mesh filename="textured_objs/original-40.obj"/>
			</geometry>
		</visual>
		<collision>
			<origin xyz="-0.33749394325258053 -0.02924199999999999 -0.03802506258246541"/>
			<geometry>
				<mesh filename="textured_objs/original-40.obj"/>
			</geometry>
		</collision>
	</link>
	<joint name="joint_54" type="prismatic">
		<origin xyz="0.33749394325258053 0.02924199999999999 0.03802506258246541"/>
		<axis xyz="0 -1 0"/>
		<child link="link_54"/>
		<parent link="link_100"/>
		<limit lower="0" upper="0.005"/>
	</joint>
	<link name="link_55">
		<visual name="key-57">
			<origin xyz="-0.33749394325258053 -0.02924199999999999 -0.03802506258246541"/>
			<geometry>
				<mesh filename="textured_objs/original-34.obj"/>
			</geometry>
		</visual>
		<collision>
			<origin xyz="-0.33749394325258053 -0.02924199999999999 -0.03802506258246541"/>
			<geometry>
				<mesh filename="textured_objs/original-34.obj"/>
			</geometry>
		</collision>
	</link>
	<joint name="joint_55" type="prismatic">
		<origin xyz="0.33749394325258053 0.02924199999999999 0.03802506258246541"/>
		<axis xyz="0 -1 0"/>
		<child link="link_55"/>
		<parent link="link_100"/>
		<limit lower="0" upper="0.005"/>
	</joint>
	<link name="link_56">
		<visual name="key-58">
			<origin xyz="-0.33749394325258053 -0.02924199999999999 -0.03802506258246541"/>
			<geometry>
				<mesh filename="textured_objs/original-29.obj"/>
			</geometry>
		</visual>
		<collision>
			<origin xyz="-0.33749394325258053 -0.02924199999999999 -0.03802506258246541"/>
			<geometry>
				<mesh filename="textured_objs/original-29.obj"/>
			</geometry>
		</collision>
	</link>
	<joint name="joint_56" type="prismatic">
		<origin xyz="0.33749394325258053 0.02924199999999999 0.03802506258246541"/>
		<axis xyz="0 -1 0"/>
		<child link="link_56"/>
		<parent link="link_100"/>
		<limit lower="0" upper="0.005"/>
	</joint>
	<link name="link_57">
		<visual name="key-59">
			<origin xyz="-0.33749394325258053 -0.02924199999999999 -0.03802506258246541"/>
			<geometry>
				<mesh filename="textured_objs/original-25.obj"/>
			</geometry>
		</visual>
		<collision>
			<origin xyz="-0.33749394325258053 -0.02924199999999999 -0.03802506258246541"/>
			<geometry>
				<mesh filename="textured_objs/original-25.obj"/>
			</geometry>
		</collision>
	</link>
	<joint name="joint_57" type="prismatic">
		<origin xyz="0.33749394325258053 0.02924199999999999 0.03802506258246541"/>
		<axis xyz="0 -1 0"/>
		<child link="link_57"/>
		<parent link="link_100"/>
		<limit lower="0" upper="0.005"/>
	</joint>
	<link name="link_58">
		<visual name="key-60">
			<origin xyz="-0.33749394325258053 -0.02924199999999999 -0.03802506258246541"/>
			<geometry>
				<mesh filename="textured_objs/original-35.obj"/>
			</geometry>
		</visual>
		<collision>
			<origin xyz="-0.33749394325258053 -0.02924199999999999 -0.03802506258246541"/>
			<geometry>
				<mesh filename="textured_objs/original-35.obj"/>
			</geometry>
		</collision>
	</link>
	<joint name="joint_58" type="prismatic">
		<origin xyz="0.33749394325258053 0.02924199999999999 0.03802506258246541"/>
		<axis xyz="0 -1 0"/>
		<child link="link_58"/>
		<parent link="link_100"/>
		<limit lower="0" upper="0.005"/>
	</joint>
	<link name="link_59">
		<visual name="key-61">
			<origin xyz="-0.33749394325258053 -0.02924199999999999 -0.03802506258246541"/>
			<geometry>
				<mesh filename="textured_objs/original-36.obj"/>
			</geometry>
		</visual>
		<collision>
			<origin xyz="-0.33749394325258053 -0.02924199999999999 -0.03802506258246541"/>
			<geometry>
				<mesh filename="textured_objs/original-36.obj"/>
			</geometry>
		</collision>
	</link>
	<joint name="joint_59" type="prismatic">
		<origin xyz="0.33749394325258053 0.02924199999999999 0.03802506258246541"/>
		<axis xyz="0 -1 0"/>
		<child link="link_59"/>
		<parent link="link_100"/>
		<limit lower="0" upper="0.005"/>
	</joint>
	<link name="link_60">
		<visual name="key-62">
			<origin xyz="-0.33749394325258053 -0.02924199999999999 -0.03802506258246541"/>
			<geometry>
				<mesh filename="textured_objs/original-31.obj"/>
			</geometry>
		</visual>
		<collision>
			<origin xyz="-0.33749394325258053 -0.02924199999999999 -0.03802506258246541"/>
			<geometry>
				<mesh filename="textured_objs/original-31.obj"/>
			</geometry>
		</collision>
	</link>
	<joint name="joint_60" type="prismatic">
		<origin xyz="0.33749394325258053 0.02924199999999999 0.03802506258246541"/>
		<axis xyz="0 -1 0"/>
		<child link="link_60"/>
		<parent link="link_100"/>
		<limit lower="0" upper="0.005"/>
	</joint>
	<link name="link_61">
		<visual name="key-63">
			<origin xyz="-0.33749394325258053 -0.02924199999999999 -0.03802506258246541"/>
			<geometry>
				<mesh filename="textured_objs/original-45.obj"/>
			</geometry>
		</visual>
		<collision>
			<origin xyz="-0.33749394325258053 -0.02924199999999999 -0.03802506258246541"/>
			<geometry>
				<mesh filename="textured_objs/original-45.obj"/>
			</geometry>
		</collision>
	</link>
	<joint name="joint_61" type="prismatic">
		<origin xyz="0.33749394325258053 0.02924199999999999 0.03802506258246541"/>
		<axis xyz="0 -1 0"/>
		<child link="link_61"/>
		<parent link="link_100"/>
		<limit lower="0" upper="0.005"/>
	</joint>
	<link name="link_62">
		<visual name="key-64">
			<origin xyz="-0.33749394325258053 -0.02924199999999999 -0.03802506258246541"/>
			<geometry>
				<mesh filename="textured_objs/original-18.obj"/>
			</geometry>
		</visual>
		<collision>
			<origin xyz="-0.33749394325258053 -0.02924199999999999 -0.03802506258246541"/>
			<geometry>
				<mesh filename="textured_objs/original-18.obj"/>
			</geometry>
		</collision>
	</link>
	<joint name="joint_62" type="prismatic">
		<origin xyz="0.33749394325258053 0.02924199999999999 0.03802506258246541"/>
		<axis xyz="0 -1 0"/>
		<child link="link_62"/>
		<parent link="link_100"/>
		<limit lower="0" upper="0.005"/>
	</joint>
	<link name="link_63">
		<visual name="key-65">
			<origin xyz="-0.33749394325258053 -0.02924199999999999 -0.03802506258246541"/>
			<geometry>
				<mesh filename="textured_objs/original-12.obj"/>
			</geometry>
		</visual>
		<collision>
			<origin xyz="-0.33749394325258053 -0.02924199999999999 -0.03802506258246541"/>
			<geometry>
				<mesh filename="textured_objs/original-12.obj"/>
			</geometry>
		</collision>
	</link>
	<joint name="joint_63" type="prismatic">
		<origin xyz="0.33749394325258053 0.02924199999999999 0.03802506258246541"/>
		<axis xyz="0 -1 0"/>
		<child link="link_63"/>
		<parent link="link_100"/>
		<limit lower="0" upper="0.005"/>
	</joint>
	<link name="link_64">
		<visual name="key-66">
			<origin xyz="-0.33749394325258053 -0.02924199999999999 -0.03802506258246541"/>
			<geometry>
				<mesh filename="textured_objs/original-47.obj"/>
			</geometry>
		</visual>
		<collision>
			<origin xyz="-0.33749394325258053 -0.02924199999999999 -0.03802506258246541"/>
			<geometry>
				<mesh filename="textured_objs/original-47.obj"/>
			</geometry>
		</collision>
	</link>
	<joint name="joint_64" type="prismatic">
		<origin xyz="0.33749394325258053 0.02924199999999999 0.03802506258246541"/>
		<axis xyz="0 -1 0"/>
		<child link="link_64"/>
		<parent link="link_100"/>
		<limit lower="0" upper="0.005"/>
	</joint>
	<link name="link_65">
		<visual name="key-67">
			<origin xyz="-0.33749394325258053 -0.02924199999999999 -0.03802506258246541"/>
			<geometry>
				<mesh filename="textured_objs/original-51.obj"/>
			</geometry>
		</visual>
		<collision>
			<origin xyz="-0.33749394325258053 -0.02924199999999999 -0.03802506258246541"/>
			<geometry>
				<mesh filename="textured_objs/original-51.obj"/>
			</geometry>
		</collision>
	</link>
	<joint name="joint_65" type="prismatic">
		<origin xyz="0.33749394325258053 0.02924199999999999 0.03802506258246541"/>
		<axis xyz="0 -1 0"/>
		<child link="link_65"/>
		<parent link="link_100"/>
		<limit lower="0" upper="0.005"/>
	</joint>
	<link name="link_66">
		<visual name="key-68">
			<origin xyz="-0.33749394325258053 -0.02924199999999999 -0.03802506258246541"/>
			<geometry>
				<mesh filename="textured_objs/original-2.obj"/>
			</geometry>
		</visual>
		<collision>
			<origin xyz="-0.33749394325258053 -0.02924199999999999 -0.03802506258246541"/>
			<geometry>
				<mesh filename="textured_objs/original-2.obj"/>
			</geometry>
		</collision>
	</link>
	<joint name="joint_66" type="prismatic">
		<origin xyz="0.33749394325258053 0.02924199999999999 0.03802506258246541"/>
		<axis xyz="0 -1 0"/>
		<child link="link_66"/>
		<parent link="link_100"/>
		<limit lower="0" upper="0.005"/>
	</joint>
	<link name="link_67">
		<visual name="key-69">
			<origin xyz="-0.33749394325258053 -0.02924199999999999 -0.03802506258246541"/>
			<geometry>
				<mesh filename="textured_objs/original-11.obj"/>
			</geometry>
		</visual>
		<collision>
			<origin xyz="-0.33749394325258053 -0.02924199999999999 -0.03802506258246541"/>
			<geometry>
				<mesh filename="textured_objs/original-11.obj"/>
			</geometry>
		</collision>
	</link>
	<joint name="joint_67" type="prismatic">
		<origin xyz="0.33749394325258053 0.02924199999999999 0.03802506258246541"/>
		<axis xyz="0 -1 0"/>
		<child link="link_67"/>
		<parent link="link_100"/>
		<limit lower="0" upper="0.005"/>
	</joint>
	<link name="link_68">
		<visual name="key-70">
			<origin xyz="-0.33749394325258053 -0.02924199999999999 -0.03802506258246541"/>
			<geometry>
				<mesh filename="textured_objs/original-38.obj"/>
			</geometry>
		</visual>
		<collision>
			<origin xyz="-0.33749394325258053 -0.02924199999999999 -0.03802506258246541"/>
			<geometry>
				<mesh filename="textured_objs/original-38.obj"/>
			</geometry>
		</collision>
	</link>
	<joint name="joint_68" type="prismatic">
		<origin xyz="0.33749394325258053 0.02924199999999999 0.03802506258246541"/>
		<axis xyz="0 -1 0"/>
		<child link="link_68"/>
		<parent link="link_100"/>
		<limit lower="0" upper="0.005"/>
	</joint>
	<link name="link_69">
		<visual name="key-71">
			<origin xyz="-0.33749394325258053 -0.02924199999999999 -0.03802506258246541"/>
			<geometry>
				<mesh filename="textured_objs/original-4.obj"/>
			</geometry>
		</visual>
		<collision>
			<origin xyz="-0.33749394325258053 -0.02924199999999999 -0.03802506258246541"/>
			<geometry>
				<mesh filename="textured_objs/original-4.obj"/>
			</geometry>
		</collision>
	</link>
	<joint name="joint_69" type="prismatic">
		<origin xyz="0.33749394325258053 0.02924199999999999 0.03802506258246541"/>
		<axis xyz="0 -1 0"/>
		<child link="link_69"/>
		<parent link="link_100"/>
		<limit lower="0" upper="0.005"/>
	</joint>
	<link name="link_70">
		<visual name="key-72">
			<origin xyz="-0.33749394325258053 -0.02924199999999999 -0.03802506258246541"/>
			<geometry>
				<mesh filename="textured_objs/original-59.obj"/>
			</geometry>
		</visual>
		<collision>
			<origin xyz="-0.33749394325258053 -0.02924199999999999 -0.03802506258246541"/>
			<geometry>
				<mesh filename="textured_objs/original-59.obj"/>
			</geometry>
		</collision>
	</link>
	<joint name="joint_70" type="prismatic">
		<origin xyz="0.33749394325258053 0.02924199999999999 0.03802506258246541"/>
		<axis xyz="0 -1 0"/>
		<child link="link_70"/>
		<parent link="link_100"/>
		<limit lower="0" upper="0.005"/>
	</joint>
	<link name="link_71">
		<visual name="key-73">
			<origin xyz="-0.33749394325258053 -0.02924199999999999 -0.03802506258246541"/>
			<geometry>
				<mesh filename="textured_objs/original-28.obj"/>
			</geometry>
		</visual>
		<collision>
			<origin xyz="-0.33749394325258053 -0.02924199999999999 -0.03802506258246541"/>
			<geometry>
				<mesh filename="textured_objs/original-28.obj"/>
			</geometry>
		</collision>
	</link>
	<joint name="joint_71" type="prismatic">
		<origin xyz="0.33749394325258053 0.02924199999999999 0.03802506258246541"/>
		<axis xyz="0 -1 0"/>
		<child link="link_71"/>
		<parent link="link_100"/>
		<limit lower="0" upper="0.005"/>
	</joint>
	<link name="link_72">
		<visual name="key-74">
			<origin xyz="-0.33749394325258053 -0.02924199999999999 -0.03802506258246541"/>
			<geometry>
				<mesh filename="textured_objs/original-22.obj"/>
			</geometry>
		</visual>
		<collision>
			<origin xyz="-0.33749394325258053 -0.02924199999999999 -0.03802506258246541"/>
			<geometry>
				<mesh filename="textured_objs/original-22.obj"/>
			</geometry>
		</collision>
	</link>
	<joint name="joint_72" type="prismatic">
		<origin xyz="0.33749394325258053 0.02924199999999999 0.03802506258246541"/>
		<axis xyz="0 -1 0"/>
		<child link="link_72"/>
		<parent link="link_100"/>
		<limit lower="0" upper="0.005"/>
	</joint>
	<link name="link_73">
		<visual name="key-75">
			<origin xyz="-0.33749394325258053 -0.02924199999999999 -0.03802506258246541"/>
			<geometry>
				<mesh filename="textured_objs/original-44.obj"/>
			</geometry>
		</visual>
		<collision>
			<origin xyz="-0.33749394325258053 -0.02924199999999999 -0.03802506258246541"/>
			<geometry>
				<mesh filename="textured_objs/original-44.obj"/>
			</geometry>
		</collision>
	</link>
	<joint name="joint_73" type="prismatic">
		<origin xyz="0.33749394325258053 0.02924199999999999 0.03802506258246541"/>
		<axis xyz="0 -1 0"/>
		<child link="link_73"/>
		<parent link="link_100"/>
		<limit lower="0" upper="0.005"/>
	</joint>
	<link name="link_74">
		<visual name="key-76">
			<origin xyz="-0.33749394325258053 -0.02924199999999999 -0.03802506258246541"/>
			<geometry>
				<mesh filename="textured_objs/original-55.obj"/>
			</geometry>
		</visual>
		<collision>
			<origin xyz="-0.33749394325258053 -0.02924199999999999 -0.03802506258246541"/>
			<geometry>
				<mesh filename="textured_objs/original-55.obj"/>
			</geometry>
		</collision>
	</link>
	<joint name="joint_74" type="prismatic">
		<origin xyz="0.33749394325258053 0.02924199999999999 0.03802506258246541"/>
		<axis xyz="0 -1 0"/>
		<child link="link_74"/>
		<parent link="link_100"/>
		<limit lower="0" upper="0.005"/>
	</joint>
	<link name="link_75">
		<visual name="key-77">
			<origin xyz="-0.33749394325258053 -0.02924199999999999 -0.03802506258246541"/>
			<geometry>
				<mesh filename="textured_objs/original-57.obj"/>
			</geometry>
		</visual>
		<collision>
			<origin xyz="-0.33749394325258053 -0.02924199999999999 -0.03802506258246541"/>
			<geometry>
				<mesh filename="textured_objs/original-57.obj"/>
			</geometry>
		</collision>
	</link>
	<joint name="joint_75" type="prismatic">
		<origin xyz="0.33749394325258053 0.02924199999999999 0.03802506258246541"/>
		<axis xyz="0 -1 0"/>
		<child link="link_75"/>
		<parent link="link_100"/>
		<limit lower="0" upper="0.005"/>
	</joint>
	<link name="link_76">
		<visual name="key-78">
			<origin xyz="-0.33749394325258053 -0.02924199999999999 -0.03802506258246541"/>
			<geometry>
				<mesh filename="textured_objs/original-99.obj"/>
			</geometry>
		</visual>
		<collision>
			<origin xyz="-0.33749394325258053 -0.02924199999999999 -0.03802506258246541"/>
			<geometry>
				<mesh filename="textured_objs/original-99.obj"/>
			</geometry>
		</collision>
	</link>
	<joint name="joint_76" type="prismatic">
		<origin xyz="0.33749394325258053 0.02924199999999999 0.03802506258246541"/>
		<axis xyz="0 -1 0"/>
		<child link="link_76"/>
		<parent link="link_100"/>
		<limit lower="0" upper="0.005"/>
	</joint>
	<link name="link_77">
		<visual name="key-79">
			<origin xyz="-0.33749394325258053 -0.02924199999999999 -0.03802506258246541"/>
			<geometry>
				<mesh filename="textured_objs/original-101.obj"/>
			</geometry>
		</visual>
		<collision>
			<origin xyz="-0.33749394325258053 -0.02924199999999999 -0.03802506258246541"/>
			<geometry>
				<mesh filename="textured_objs/original-101.obj"/>
			</geometry>
		</collision>
	</link>
	<joint name="joint_77" type="prismatic">
		<origin xyz="0.33749394325258053 0.02924199999999999 0.03802506258246541"/>
		<axis xyz="0 -1 0"/>
		<child link="link_77"/>
		<parent link="link_100"/>
		<limit lower="0" upper="0.005"/>
	</joint>
	<link name="link_78">
		<visual name="key-80">
			<origin xyz="-0.33749394325258053 -0.02924199999999999 -0.03802506258246541"/>
			<geometry>
				<mesh filename="textured_objs/original-100.obj"/>
			</geometry>
		</visual>
		<collision>
			<origin xyz="-0.33749394325258053 -0.02924199999999999 -0.03802506258246541"/>
			<geometry>
				<mesh filename="textured_objs/original-100.obj"/>
			</geometry>
		</collision>
	</link>
	<joint name="joint_78" type="prismatic">
		<origin xyz="0.33749394325258053 0.02924199999999999 0.03802506258246541"/>
		<axis xyz="0 -1 0"/>
		<child link="link_78"/>
		<parent link="link_100"/>
		<limit lower="0" upper="0.005"/>
	</joint>
	<link name="link_79">
		<visual name="key-81">
			<origin xyz="-0.33749394325258053 -0.02924199999999999 -0.03802506258246541"/>
			<geometry>
				<mesh filename="textured_objs/original-102.obj"/>
			</geometry>
		</visual>
		<collision>
			<origin xyz="-0.33749394325258053 -0.02924199999999999 -0.03802506258246541"/>
			<geometry>
				<mesh filename="textured_objs/original-102.obj"/>
			</geometry>
		</collision>
	</link>
	<joint name="joint_79" type="prismatic">
		<origin xyz="0.33749394325258053 0.02924199999999999 0.03802506258246541"/>
		<axis xyz="0 -1 0"/>
		<child link="link_79"/>
		<parent link="link_100"/>
		<limit lower="0" upper="0.005"/>
	</joint>
	<link name="link_80">
		<visual name="key-83">
			<origin xyz="-0.33749394325258053 -0.02924199999999999 -0.03802506258246541"/>
			<geometry>
				<mesh filename="textured_objs/original-81.obj"/>
			</geometry>
		</visual>
		<collision>
			<origin xyz="-0.33749394325258053 -0.02924199999999999 -0.03802506258246541"/>
			<geometry>
				<mesh filename="textured_objs/original-81.obj"/>
			</geometry>
		</collision>
	</link>
	<joint name="joint_80" type="prismatic">
		<origin xyz="0.33749394325258053 0.02924199999999999 0.03802506258246541"/>
		<axis xyz="0 -1 0"/>
		<child link="link_80"/>
		<parent link="link_100"/>
		<limit lower="0" upper="0.005"/>
	</joint>
	<link name="link_81">
		<visual name="key-84">
			<origin xyz="-0.33749394325258053 -0.02924199999999999 -0.03802506258246541"/>
			<geometry>
				<mesh filename="textured_objs/original-82.obj"/>
			</geometry>
		</visual>
		<collision>
			<origin xyz="-0.33749394325258053 -0.02924199999999999 -0.03802506258246541"/>
			<geometry>
				<mesh filename="textured_objs/original-82.obj"/>
			</geometry>
		</collision>
	</link>
	<joint name="joint_81" type="prismatic">
		<origin xyz="0.33749394325258053 0.02924199999999999 0.03802506258246541"/>
		<axis xyz="0 -1 0"/>
		<child link="link_81"/>
		<parent link="link_100"/>
		<limit lower="0" upper="0.005"/>
	</joint>
	<link name="link_82">
		<visual name="key-85">
			<origin xyz="-0.33749394325258053 -0.02924199999999999 -0.03802506258246541"/>
			<geometry>
				<mesh filename="textured_objs/original-83.obj"/>
			</geometry>
		</visual>
		<collision>
			<origin xyz="-0.33749394325258053 -0.02924199999999999 -0.03802506258246541"/>
			<geometry>
				<mesh filename="textured_objs/original-83.obj"/>
			</geometry>
		</collision>
	</link>
	<joint name="joint_82" type="prismatic">
		<origin xyz="0.33749394325258053 0.02924199999999999 0.03802506258246541"/>
		<axis xyz="0 -1 0"/>
		<child link="link_82"/>
		<parent link="link_100"/>
		<limit lower="0" upper="0.005"/>
	</joint>
	<link name="link_83">
		<visual name="key-86">
			<origin xyz="-0.33749394325258053 -0.02924199999999999 -0.03802506258246541"/>
			<geometry>
				<mesh filename="textured_objs/original-84.obj"/>
			</geometry>
		</visual>
		<collision>
			<origin xyz="-0.33749394325258053 -0.02924199999999999 -0.03802506258246541"/>
			<geometry>
				<mesh filename="textured_objs/original-84.obj"/>
			</geometry>
		</collision>
	</link>
	<joint name="joint_83" type="prismatic">
		<origin xyz="0.33749394325258053 0.02924199999999999 0.03802506258246541"/>
		<axis xyz="0 -1 0"/>
		<child link="link_83"/>
		<parent link="link_100"/>
		<limit lower="0" upper="0.005"/>
	</joint>
	<link name="link_84">
		<visual name="key-87">
			<origin xyz="-0.33749394325258053 -0.02924199999999999 -0.03802506258246541"/>
			<geometry>
				<mesh filename="textured_objs/original-87.obj"/>
			</geometry>
		</visual>
		<collision>
			<origin xyz="-0.33749394325258053 -0.02924199999999999 -0.03802506258246541"/>
			<geometry>
				<mesh filename="textured_objs/original-87.obj"/>
			</geometry>
		</collision>
	</link>
	<joint name="joint_84" type="prismatic">
		<origin xyz="0.33749394325258053 0.02924199999999999 0.03802506258246541"/>
		<axis xyz="0 -1 0"/>
		<child link="link_84"/>
		<parent link="link_100"/>
		<limit lower="0" upper="0.005"/>
	</joint>
	<link name="link_85">
		<visual name="key-88">
			<origin xyz="-0.33749394325258053 -0.02924199999999999 -0.03802506258246541"/>
			<geometry>
				<mesh filename="textured_objs/original-86.obj"/>
			</geometry>
		</visual>
		<collision>
			<origin xyz="-0.33749394325258053 -0.02924199999999999 -0.03802506258246541"/>
			<geometry>
				<mesh filename="textured_objs/original-86.obj"/>
			</geometry>
		</collision>
	</link>
	<joint name="joint_85" type="prismatic">
		<origin xyz="0.33749394325258053 0.02924199999999999 0.03802506258246541"/>
		<axis xyz="0 -1 0"/>
		<child link="link_85"/>
		<parent link="link_100"/>
		<limit lower="0" upper="0.005"/>
	</joint>
	<link name="link_86">
		<visual name="key-89">
			<origin xyz="-0.33749394325258053 -0.02924199999999999 -0.03802506258246541"/>
			<geometry>
				<mesh filename="textured_objs/original-85.obj"/>
			</geometry>
		</visual>
		<collision>
			<origin xyz="-0.33749394325258053 -0.02924199999999999 -0.03802506258246541"/>
			<geometry>
				<mesh filename="textured_objs/original-85.obj"/>
			</geometry>
		</collision>
	</link>
	<joint name="joint_86" type="prismatic">
		<origin xyz="0.33749394325258053 0.02924199999999999 0.03802506258246541"/>
		<axis xyz="0 -1 0"/>
		<child link="link_86"/>
		<parent link="link_100"/>
		<limit lower="0" upper="0.005"/>
	</joint>
	<link name="link_87">
		<visual name="key-90">
			<origin xyz="-0.33749394325258053 -0.02924199999999999 -0.03802506258246541"/>
			<geometry>
				<mesh filename="textured_objs/original-88.obj"/>
			</geometry>
		</visual>
		<collision>
			<origin xyz="-0.33749394325258053 -0.02924199999999999 -0.03802506258246541"/>
			<geometry>
				<mesh filename="textured_objs/original-88.obj"/>
			</geometry>
		</collision>
	</link>
	<joint name="joint_87" type="prismatic">
		<origin xyz="0.33749394325258053 0.02924199999999999 0.03802506258246541"/>
		<axis xyz="0 -1 0"/>
		<child link="link_87"/>
		<parent link="link_100"/>
		<limit lower="0" upper="0.005"/>
	</joint>
	<link name="link_88">
		<visual name="key-91">
			<origin xyz="-0.33749394325258053 -0.02924199999999999 -0.03802506258246541"/>
			<geometry>
				<mesh filename="textured_objs/original-91.obj"/>
			</geometry>
		</visual>
		<collision>
			<origin xyz="-0.33749394325258053 -0.02924199999999999 -0.03802506258246541"/>
			<geometry>
				<mesh filename="textured_objs/original-91.obj"/>
			</geometry>
		</collision>
	</link>
	<joint name="joint_88" type="prismatic">
		<origin xyz="0.33749394325258053 0.02924199999999999 0.03802506258246541"/>
		<axis xyz="0 -1 0"/>
		<child link="link_88"/>
		<parent link="link_100"/>
		<limit lower="0" upper="0.005"/>
	</joint>
	<link name="link_89">
		<visual name="key-92">
			<origin xyz="-0.33749394325258053 -0.02924199999999999 -0.03802506258246541"/>
			<geometry>
				<mesh filename="textured_objs/original-89.obj"/>
			</geometry>
		</visual>
		<collision>
			<origin xyz="-0.33749394325258053 -0.02924199999999999 -0.03802506258246541"/>
			<geometry>
				<mesh filename="textured_objs/original-89.obj"/>
			</geometry>
		</collision>
	</link>
	<joint name="joint_89" type="prismatic">
		<origin xyz="0.33749394325258053 0.02924199999999999 0.03802506258246541"/>
		<axis xyz="0 -1 0"/>
		<child link="link_89"/>
		<parent link="link_100"/>
		<limit lower="0" upper="0.005"/>
	</joint>
	<link name="link_90">
		<visual name="key-93">
			<origin xyz="-0.33749394325258053 -0.02924199999999999 -0.03802506258246541"/>
			<geometry>
				<mesh filename="textured_objs/original-90.obj"/>
			</geometry>
		</visual>
		<collision>
			<origin xyz="-0.33749394325258053 -0.02924199999999999 -0.03802506258246541"/>
			<geometry>
				<mesh filename="textured_objs/original-90.obj"/>
			</geometry>
		</collision>
	</link>
	<joint name="joint_90" type="prismatic">
		<origin xyz="0.33749394325258053 0.02924199999999999 0.03802506258246541"/>
		<axis xyz="0 -1 0"/>
		<child link="link_90"/>
		<parent link="link_100"/>
		<limit lower="0" upper="0.005"/>
	</joint>
	<link name="link_91">
		<visual name="key-94">
			<origin xyz="-0.33749394325258053 -0.02924199999999999 -0.03802506258246541"/>
			<geometry>
				<mesh filename="textured_objs/original-92.obj"/>
			</geometry>
		</visual>
		<collision>
			<origin xyz="-0.33749394325258053 -0.02924199999999999 -0.03802506258246541"/>
			<geometry>
				<mesh filename="textured_objs/original-92.obj"/>
			</geometry>
		</collision>
	</link>
	<joint name="joint_91" type="prismatic">
		<origin xyz="0.33749394325258053 0.02924199999999999 0.03802506258246541"/>
		<axis xyz="0 -1 0"/>
		<child link="link_91"/>
		<parent link="link_100"/>
		<limit lower="0" upper="0.005"/>
	</joint>
	<link name="link_92">
		<visual name="key-95">
			<origin xyz="-0.33749394325258053 -0.02924199999999999 -0.03802506258246541"/>
			<geometry>
				<mesh filename="textured_objs/original-94.obj"/>
			</geometry>
		</visual>
		<collision>
			<origin xyz="-0.33749394325258053 -0.02924199999999999 -0.03802506258246541"/>
			<geometry>
				<mesh filename="textured_objs/original-94.obj"/>
			</geometry>
		</collision>
	</link>
	<joint name="joint_92" type="prismatic">
		<origin xyz="0.33749394325258053 0.02924199999999999 0.03802506258246541"/>
		<axis xyz="0 -1 0"/>
		<child link="link_92"/>
		<parent link="link_100"/>
		<limit lower="0" upper="0.005"/>
	</joint>
	<link name="link_93">
		<visual name="key-96">
			<origin xyz="-0.33749394325258053 -0.02924199999999999 -0.03802506258246541"/>
			<geometry>
				<mesh filename="textured_objs/original-93.obj"/>
			</geometry>
		</visual>
		<collision>
			<origin xyz="-0.33749394325258053 -0.02924199999999999 -0.03802506258246541"/>
			<geometry>
				<mesh filename="textured_objs/original-93.obj"/>
			</geometry>
		</collision>
	</link>
	<joint name="joint_93" type="prismatic">
		<origin xyz="0.33749394325258053 0.02924199999999999 0.03802506258246541"/>
		<axis xyz="0 -1 0"/>
		<child link="link_93"/>
		<parent link="link_100"/>
		<limit lower="0" upper="0.005"/>
	</joint>
	<link name="link_94">
		<visual name="key-97">
			<origin xyz="-0.33749394325258053 -0.02924199999999999 -0.03802506258246541"/>
			<geometry>
				<mesh filename="textured_objs/original-33.obj"/>
			</geometry>
		</visual>
		<collision>
			<origin xyz="-0.33749394325258053 -0.02924199999999999 -0.03802506258246541"/>
			<geometry>
				<mesh filename="textured_objs/original-33.obj"/>
			</geometry>
		</collision>
	</link>
	<joint name="joint_94" type="prismatic">
		<origin xyz="0.33749394325258053 0.02924199999999999 0.03802506258246541"/>
		<axis xyz="0 -1 0"/>
		<child link="link_94"/>
		<parent link="link_100"/>
		<limit lower="0" upper="0.005"/>
	</joint>
	<link name="link_95">
		<visual name="key-98">
			<origin xyz="-0.33749394325258053 -0.02924199999999999 -0.03802506258246541"/>
			<geometry>
				<mesh filename="textured_objs/original-14.obj"/>
			</geometry>
		</visual>
		<collision>
			<origin xyz="-0.33749394325258053 -0.02924199999999999 -0.03802506258246541"/>
			<geometry>
				<mesh filename="textured_objs/original-14.obj"/>
			</geometry>
		</collision>
	</link>
	<joint name="joint_95" type="prismatic">
		<origin xyz="0.33749394325258053 0.02924199999999999 0.03802506258246541"/>
		<axis xyz="0 -1 0"/>
		<child link="link_95"/>
		<parent link="link_100"/>
		<limit lower="0" upper="0.005"/>
	</joint>
	<link name="link_96">
		<visual name="key-99">
			<origin xyz="-0.33749394325258053 -0.02924199999999999 -0.03802506258246541"/>
			<geometry>
				<mesh filename="textured_objs/original-26.obj"/>
			</geometry>
		</visual>
		<collision>
			<origin xyz="-0.33749394325258053 -0.02924199999999999 -0.03802506258246541"/>
			<geometry>
				<mesh filename="textured_objs/original-26.obj"/>
			</geometry>
		</collision>
	</link>
	<joint name="joint_96" type="prismatic">
		<origin xyz="0.33749394325258053 0.02924199999999999 0.03802506258246541"/>
		<axis xyz="0 -1 0"/>
		<child link="link_96"/>
		<parent link="link_100"/>
		<limit lower="0" upper="0.005"/>
	</joint>
	<link name="link_97">
		<visual name="key-100">
			<origin xyz="-0.33749394325258053 -0.02924199999999999 -0.03802506258246541"/>
			<geometry>
				<mesh filename="textured_objs/original-42.obj"/>
			</geometry>
		</visual>
		<collision>
			<origin xyz="-0.33749394325258053 -0.02924199999999999 -0.03802506258246541"/>
			<geometry>
				<mesh filename="textured_objs/original-42.obj"/>
			</geometry>
		</collision>
	</link>
	<joint name="joint_97" type="prismatic">
		<origin xyz="0.33749394325258053 0.02924199999999999 0.03802506258246541"/>
		<axis xyz="0 -1 0"/>
		<child link="link_97"/>
		<parent link="link_100"/>
		<limit lower="0" upper="0.005"/>
	</joint>
	<link name="link_98">
		<visual name="key-101">
			<origin xyz="-0.33749394325258053 -0.02924199999999999 -0.03802506258246541"/>
			<geometry>
				<mesh filename="textured_objs/original-62.obj"/>
			</geometry>
		</visual>
		<collision>
			<origin xyz="-0.33749394325258053 -0.02924199999999999 -0.03802506258246541"/>
			<geometry>
				<mesh filename="textured_objs/original-62.obj"/>
			</geometry>
		</collision>
	</link>
	<joint name="joint_98" type="prismatic">
		<origin xyz="0.33749394325258053 0.02924199999999999 0.03802506258246541"/>
		<axis xyz="0 -1 0"/>
		<child link="link_98"/>
		<parent link="link_100"/>
		<limit lower="0" upper="0.005"/>
	</joint>
	<link name="link_99">
		<visual name="key-102">
			<origin xyz="-0.33749394325258053 -0.02924199999999999 -0.03802506258246541"/>
			<geometry>
				<mesh filename="textured_objs/original-60.obj"/>
			</geometry>
		</visual>
		<collision>
			<origin xyz="-0.33749394325258053 -0.02924199999999999 -0.03802506258246541"/>
			<geometry>
				<mesh filename="textured_objs/original-60.obj"/>
			</geometry>
		</collision>
	</link>
	<joint name="joint_99" type="prismatic">
		<origin xyz="0.33749394325258053 0.02924199999999999 0.03802506258246541"/>
		<axis xyz="0 -1 0"/>
		<child link="link_99"/>
		<parent link="link_100"/>
		<limit lower="0" upper="0.005"/>
	</joint>
	<link name="link_100">
		<visual name="frame-114">
			<origin xyz="0 0 0"/>
			<geometry>
				<mesh filename="textured_objs/original-104.obj"/>
			</geometry>
		</visual>
		<visual name="frame-114">
			<origin xyz="0 0 0"/>
			<geometry>
				<mesh filename="textured_objs/original-103.obj"/>
			</geometry>
		</visual>
		<collision>
			<origin xyz="0 0 0"/>
			<geometry>
				<mesh filename="textured_objs/original-104.obj"/>
			</geometry>
		</collision>
		<collision>
			<origin xyz="0 0 0"/>
			<geometry>
				<mesh filename="textured_objs/original-103.obj"/>
			</geometry>
		</collision>
	</link>
	<joint name="joint_100" type="fixed">
		<origin rpy="1.570796326794897 0 -1.570796326794897" xyz="0 0 0"/>
		<child link="link_100"/>
		<parent link="base"/>
	</joint>
	<link name="link_101">
		<visual name="key-115">
			<origin xyz="-0.33749394325258053 -0.02924199999999999 -0.03802506258246541"/>
			<geometry>
				<mesh filename="textured_objs/original-80.obj"/>
			</geometry>
		</visual>
		<collision>
			<origin xyz="-0.33749394325258053 -0.02924199999999999 -0.03802506258246541"/>
			<geometry>
				<mesh filename="textured_objs/original-80.obj"/>
			</geometry>
		</collision>
	</link>
	<joint name="joint_101" type="prismatic">
		<origin xyz="0.33749394325258053 0.02924199999999999 0.03802506258246541"/>
		<axis xyz="0 -1 0"/>
		<child link="link_101"/>
		<parent link="link_100"/>
		<limit lower="0" upper="0.005"/>
	</joint>
</robot>
